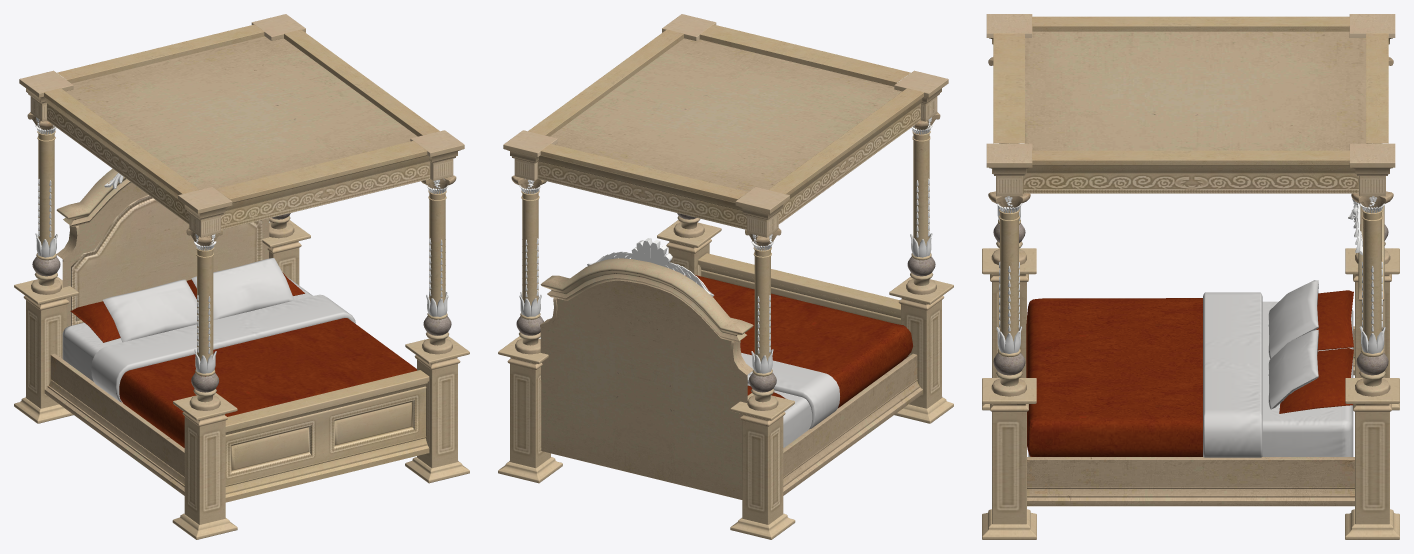
Rendered from bed.gltf.
3 views of the same model, side by side, from view 1: azimuth 30°, elevation 25°; view 2: azimuth 150°, elevation 25°; view 3: azimuth 270°, elevation 25° (orthographic). The views are drawn at different scales.
Parts seen in each view (by area): view 1: Wood_decorMesh, WoodMesh, BlanketMesh, MattressMesh, MetalMesh, Stone1Mesh; view 2: WoodMesh, Wood_decorMesh, BlanketMesh, MattressMesh, MetalMesh, Stone1Mesh; view 3: WoodMesh, Wood_decorMesh, BlanketMesh, MattressMesh, MetalMesh, Stone1Mesh.
Boxes of the visible parts, bbox=[...] form: Wood_decorMesh: bbox=[14, 14, 469, 539]; WoodMesh: bbox=[27, 36, 456, 495]; BlanketMesh: bbox=[70, 272, 416, 447]; MattressMesh: bbox=[62, 258, 355, 402]; MetalMesh: bbox=[35, 117, 448, 373]; Stone1Mesh: bbox=[32, 213, 451, 392]; WoodMesh: bbox=[511, 38, 940, 499]; Wood_decorMesh: bbox=[498, 14, 953, 539]; BlanketMesh: bbox=[685, 275, 912, 407]; MattressMesh: bbox=[741, 352, 904, 447]; MetalMesh: bbox=[519, 117, 932, 373]; Stone1Mesh: bbox=[516, 213, 935, 392]; WoodMesh: bbox=[988, 31, 1393, 506]; Wood_decorMesh: bbox=[982, 14, 1399, 539]; BlanketMesh: bbox=[1026, 290, 1353, 456]; MattressMesh: bbox=[1028, 280, 1353, 457]; MetalMesh: bbox=[996, 143, 1385, 353]; Stone1Mesh: bbox=[993, 223, 1388, 375].
Size of the model in its own units: 2.19 by 2.51 by 2.53.
8 materials, 7 textured.
